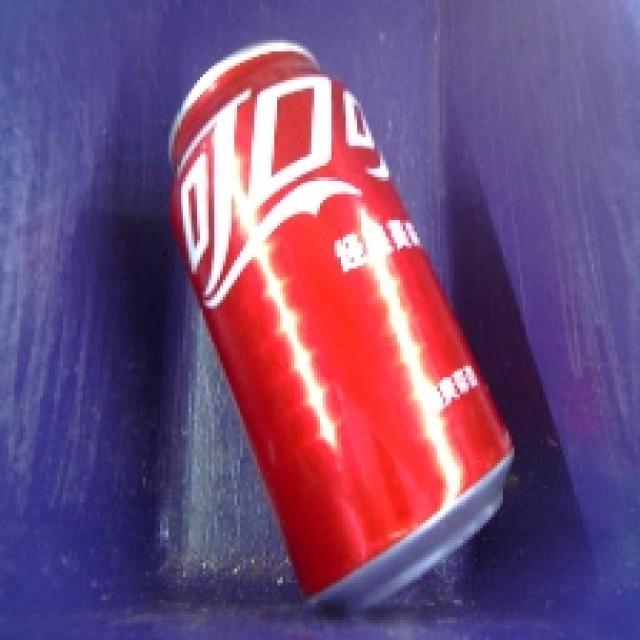metal: (136, 22, 536, 626)
